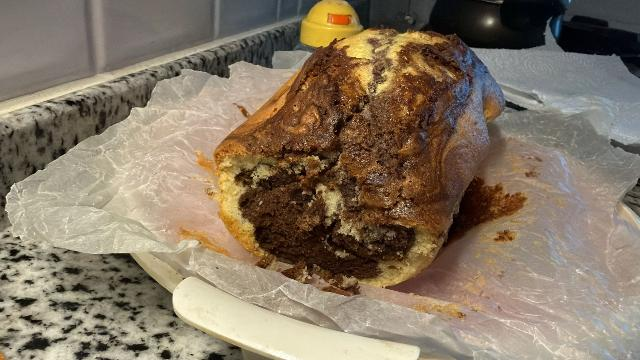Kagit: (499, 34, 640, 141)
Organik: (209, 23, 517, 295)
